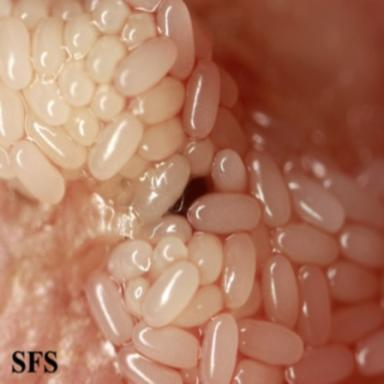Tungiasis: (0, 0, 384, 382)
